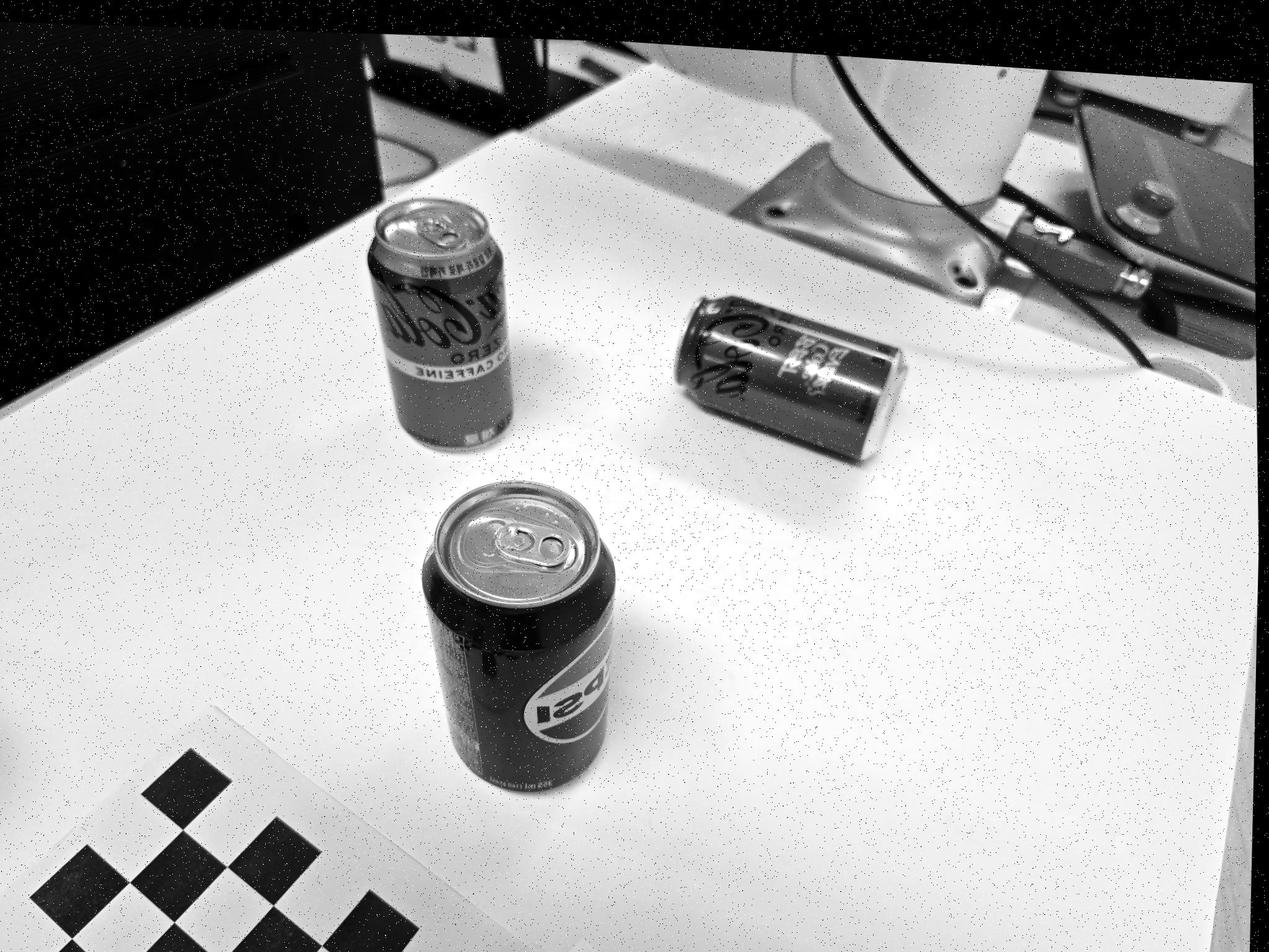can_coke_decaf: (368, 194, 515, 450)
can_coke_zero: (674, 296, 911, 461)
can_pepsi: (422, 478, 616, 788)
